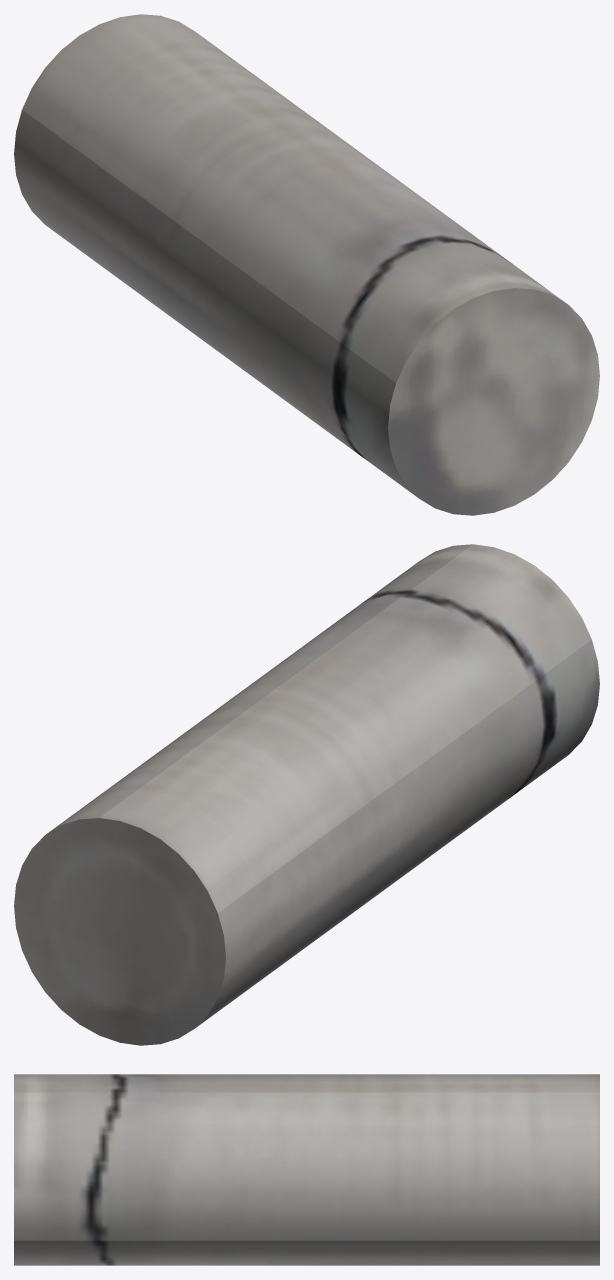
The model's file is piston__handle_stem.glb.
The picture shows the model from 3 angles, top to bottom: view 1: azimuth 30°, elevation 25°; view 2: azimuth 150°, elevation 25°; view 3: azimuth 270°, elevation 25°; orthographic projection. The views are drawn at different scales.
Visible parts, largest first — view 1: geometry_0; view 2: geometry_0; view 3: geometry_0.
Part boxes in pixels (<box>): geometry_0: <box>14,14,599,515</box>; geometry_0: <box>14,544,599,1045</box>; geometry_0: <box>14,1074,599,1265</box>.
Size of the model in its own units: 0.036 by 0.036 by 0.11.
Materials: 1 (1 with a texture image).
